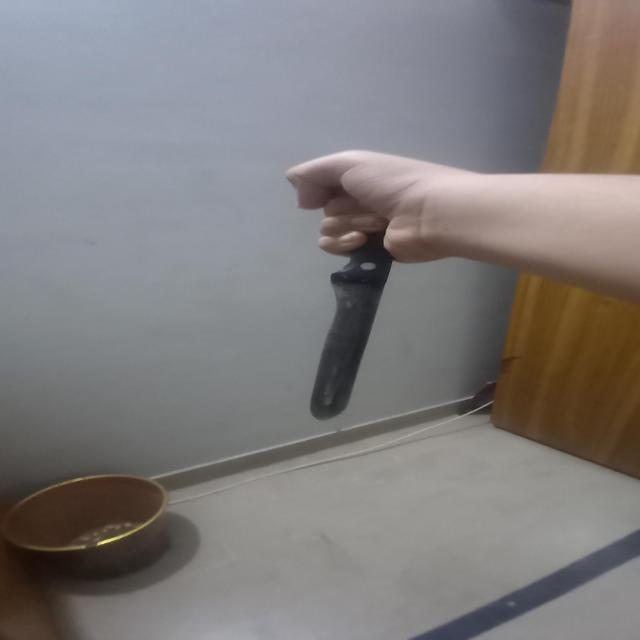faca: (312, 222, 398, 423)
